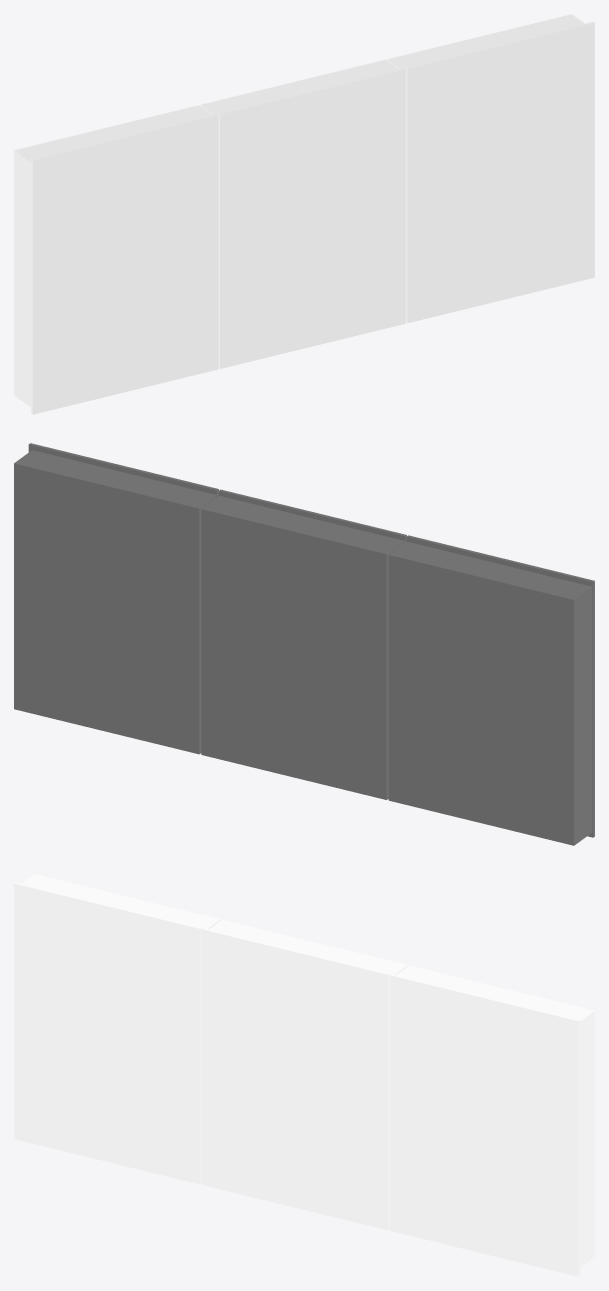
The model's file is Mirror_83d82f7b.obj.
3 views of the same model, one above another, from view 1: azimuth 30°, elevation 25°; view 2: azimuth 150°, elevation 25°; view 3: azimuth 330°, elevation 25° (orthographic).
Parts seen in each view (by area): view 1: FP410:polySurface106_98bfa79d; view 2: FP410:polySurface106_98bfa79d; view 3: FP410:polySurface106_98bfa79d.
Boxes of the visible parts, box(x1,y1,x2,y2) form: FP410:polySurface106_98bfa79d: box(14, 14, 594, 414); FP410:polySurface106_98bfa79d: box(14, 443, 594, 845); FP410:polySurface106_98bfa79d: box(14, 874, 594, 1276).
Size of the model in its own units: 2.58 by 1.12 by 0.1574.
